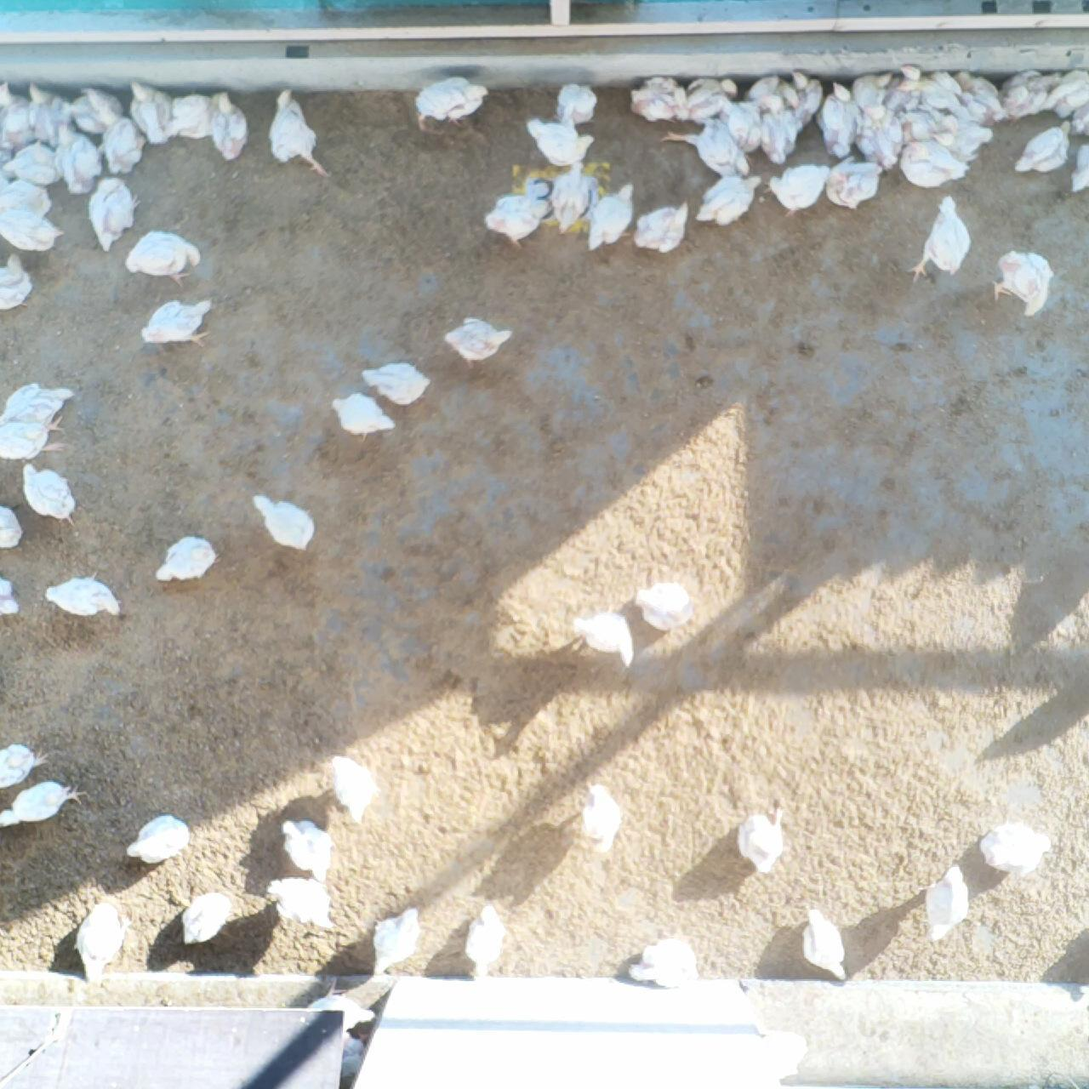chicken: (268, 80, 346, 187), (903, 191, 974, 288), (657, 114, 755, 182), (403, 69, 499, 137), (69, 894, 132, 990), (569, 599, 643, 679), (122, 221, 208, 289), (797, 903, 864, 987), (15, 457, 86, 535), (626, 922, 704, 993), (475, 184, 554, 254), (131, 292, 220, 353), (977, 814, 1058, 879), (325, 747, 385, 834), (757, 157, 836, 223), (989, 244, 1055, 322), (275, 809, 339, 889), (44, 566, 130, 625), (325, 384, 403, 449), (579, 180, 640, 260), (731, 795, 790, 876), (365, 903, 426, 981), (86, 173, 143, 255), (267, 871, 343, 932), (0, 198, 69, 265), (0, 376, 77, 436), (247, 491, 320, 554), (48, 118, 104, 200), (917, 861, 971, 946), (435, 312, 514, 370), (119, 808, 198, 866), (619, 68, 697, 126), (150, 527, 223, 588), (361, 354, 439, 411), (821, 148, 885, 217), (120, 74, 177, 151), (631, 195, 697, 261), (175, 885, 239, 952), (811, 77, 862, 160), (461, 898, 513, 979), (525, 115, 597, 173), (1011, 115, 1075, 179), (60, 78, 127, 138), (0, 779, 82, 828), (629, 573, 698, 631), (695, 171, 764, 229), (898, 137, 976, 188), (854, 102, 908, 175), (949, 66, 1009, 131), (898, 67, 970, 120), (204, 86, 253, 163), (0, 411, 66, 468), (20, 79, 75, 147), (577, 774, 621, 855), (1000, 69, 1066, 122), (676, 72, 742, 124), (0, 140, 65, 190), (778, 68, 827, 132), (897, 95, 955, 149), (547, 74, 603, 129), (96, 114, 149, 172), (164, 87, 215, 147), (0, 251, 46, 316), (0, 74, 38, 152), (756, 103, 805, 163), (0, 737, 48, 798), (720, 94, 767, 156), (0, 175, 55, 225), (944, 113, 994, 165), (878, 63, 924, 118), (1045, 67, 1089, 120), (852, 69, 890, 118), (746, 70, 787, 115), (0, 503, 29, 550), (1067, 140, 1089, 197), (0, 573, 23, 624)
